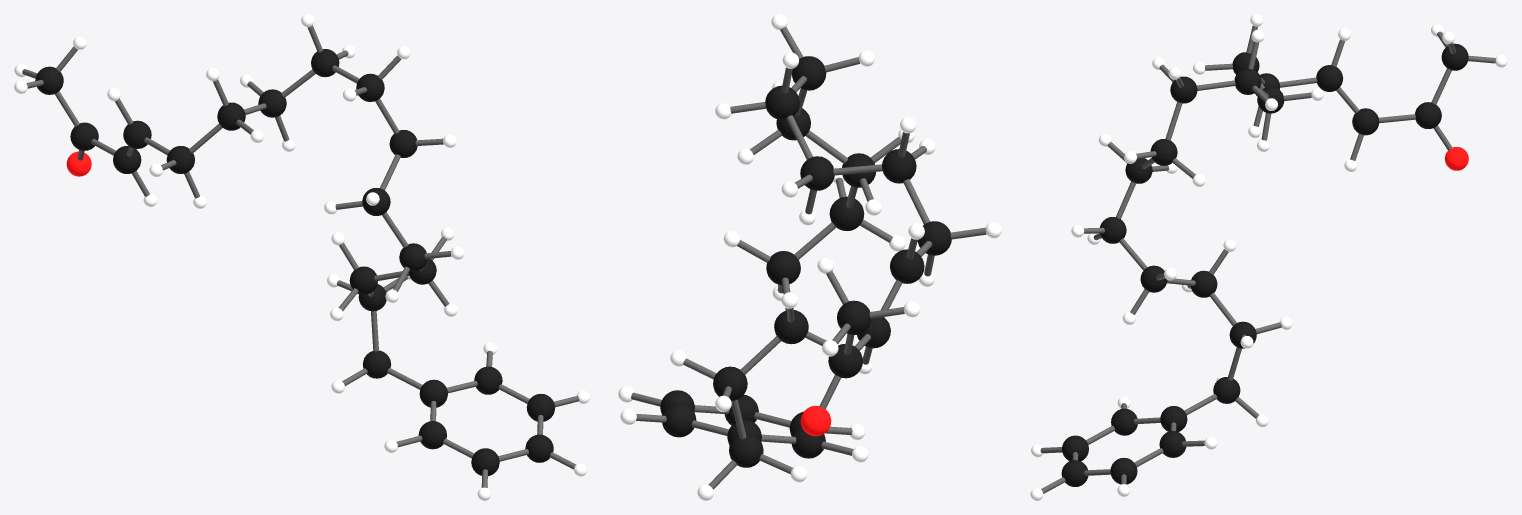
File: molecule.glb
3 views of the same model, side by side, from view 1: azimuth 30°, elevation 25°; view 2: azimuth 150°, elevation 25°; view 3: azimuth 270°, elevation 25° (orthographic). The views are drawn at different scales.
Visible parts, largest first — view 1: geometry_18, geometry_20, geometry_22, geometry_16, geometry_21; view 2: geometry_16, geometry_18, geometry_13, geometry_6, geometry_8, geometry_4, geometry_0, geometry_7, geometry_12, geometry_14, geometry_15, geometry_9 (+9 smaller); view 3: geometry_3, geometry_1, geometry_4, geometry_16, geometry_18, geometry_20, geometry_22, geometry_14, geometry_12, geometry_8, geometry_10, geometry_9 (+5 smaller).
Boxes of the visible parts, bbox=[...] form: geometry_18: bbox=[474, 366, 502, 394]; geometry_20: bbox=[525, 434, 553, 462]; geometry_22: bbox=[418, 421, 446, 449]; geometry_16: bbox=[362, 350, 391, 378]; geometry_21: bbox=[471, 448, 499, 476]; geometry_16: bbox=[729, 433, 763, 467]; geometry_18: bbox=[662, 403, 696, 437]; geometry_13: bbox=[766, 251, 800, 285]; geometry_6: bbox=[882, 149, 916, 183]; geometry_8: bbox=[765, 85, 799, 119]; geometry_4: bbox=[890, 249, 924, 283]; geometry_0: bbox=[837, 300, 871, 334]; geometry_7: bbox=[800, 156, 834, 190]; geometry_12: bbox=[829, 196, 864, 230]; geometry_14: bbox=[774, 310, 808, 344]; geometry_15: bbox=[713, 366, 747, 400]; geometry_9: bbox=[792, 56, 826, 90]; geometry_3: bbox=[1352, 108, 1379, 135]; geometry_1: bbox=[1415, 102, 1441, 128]; geometry_4: bbox=[1316, 65, 1343, 91]; geometry_16: bbox=[1213, 377, 1240, 403]; geometry_18: bbox=[1159, 431, 1186, 457]; geometry_20: bbox=[1061, 460, 1088, 486]; geometry_22: bbox=[1111, 408, 1137, 435]; geometry_14: bbox=[1190, 270, 1217, 297]; geometry_12: bbox=[1099, 217, 1126, 243]; geometry_8: bbox=[1234, 68, 1261, 94]; geometry_10: bbox=[1150, 139, 1177, 165]; geometry_9: bbox=[1170, 76, 1197, 103].
Bounding box in the file's own units: 0.2437 × 0.2365 × 0.257.
